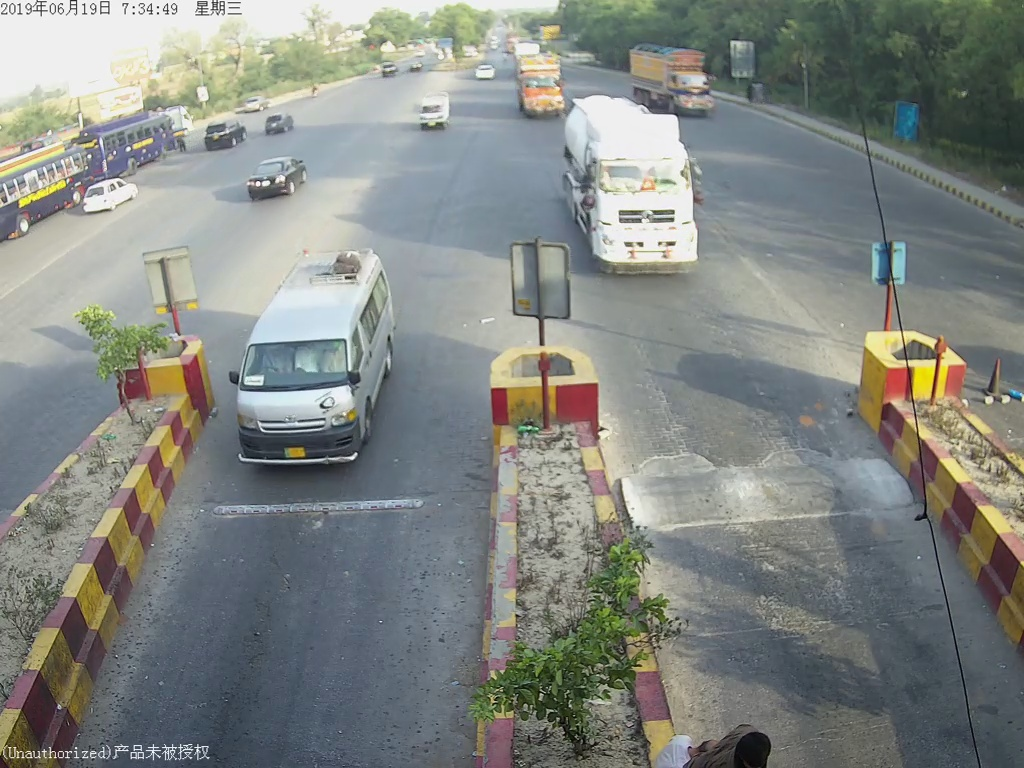Cat-2: (227, 261, 412, 463)
Cat-4: (570, 102, 709, 269)
